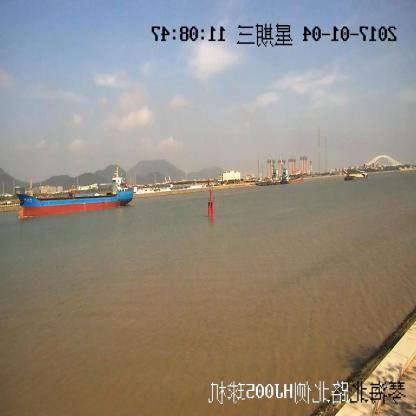Bulk Carrier: (17, 168, 134, 219)
